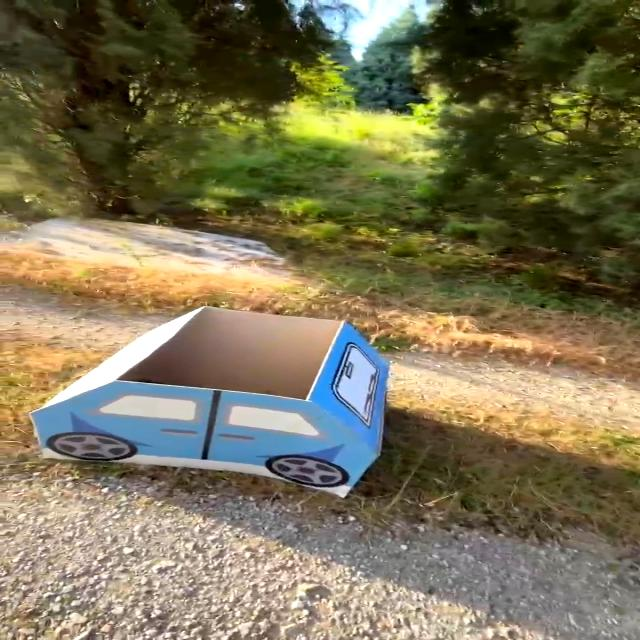blue_car: (0, 282, 427, 518)
